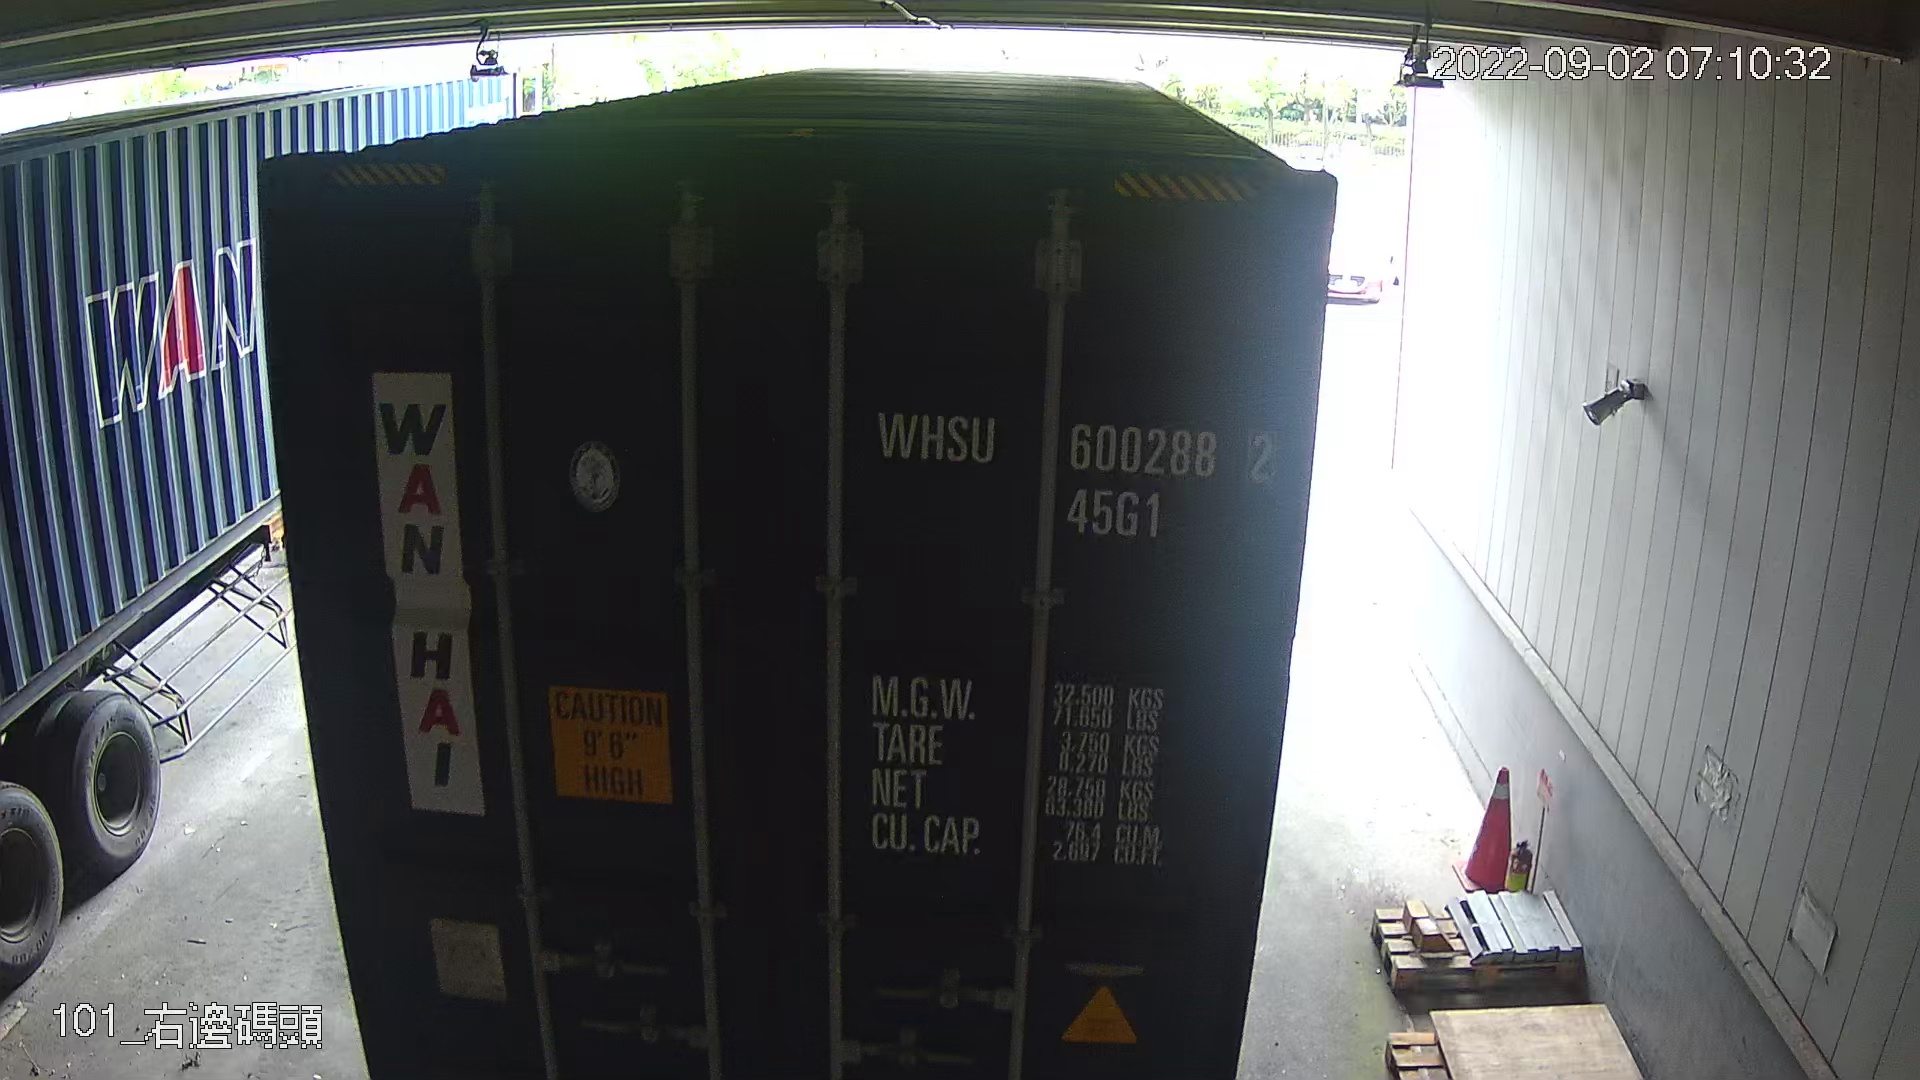container: (862, 388, 1288, 549)
